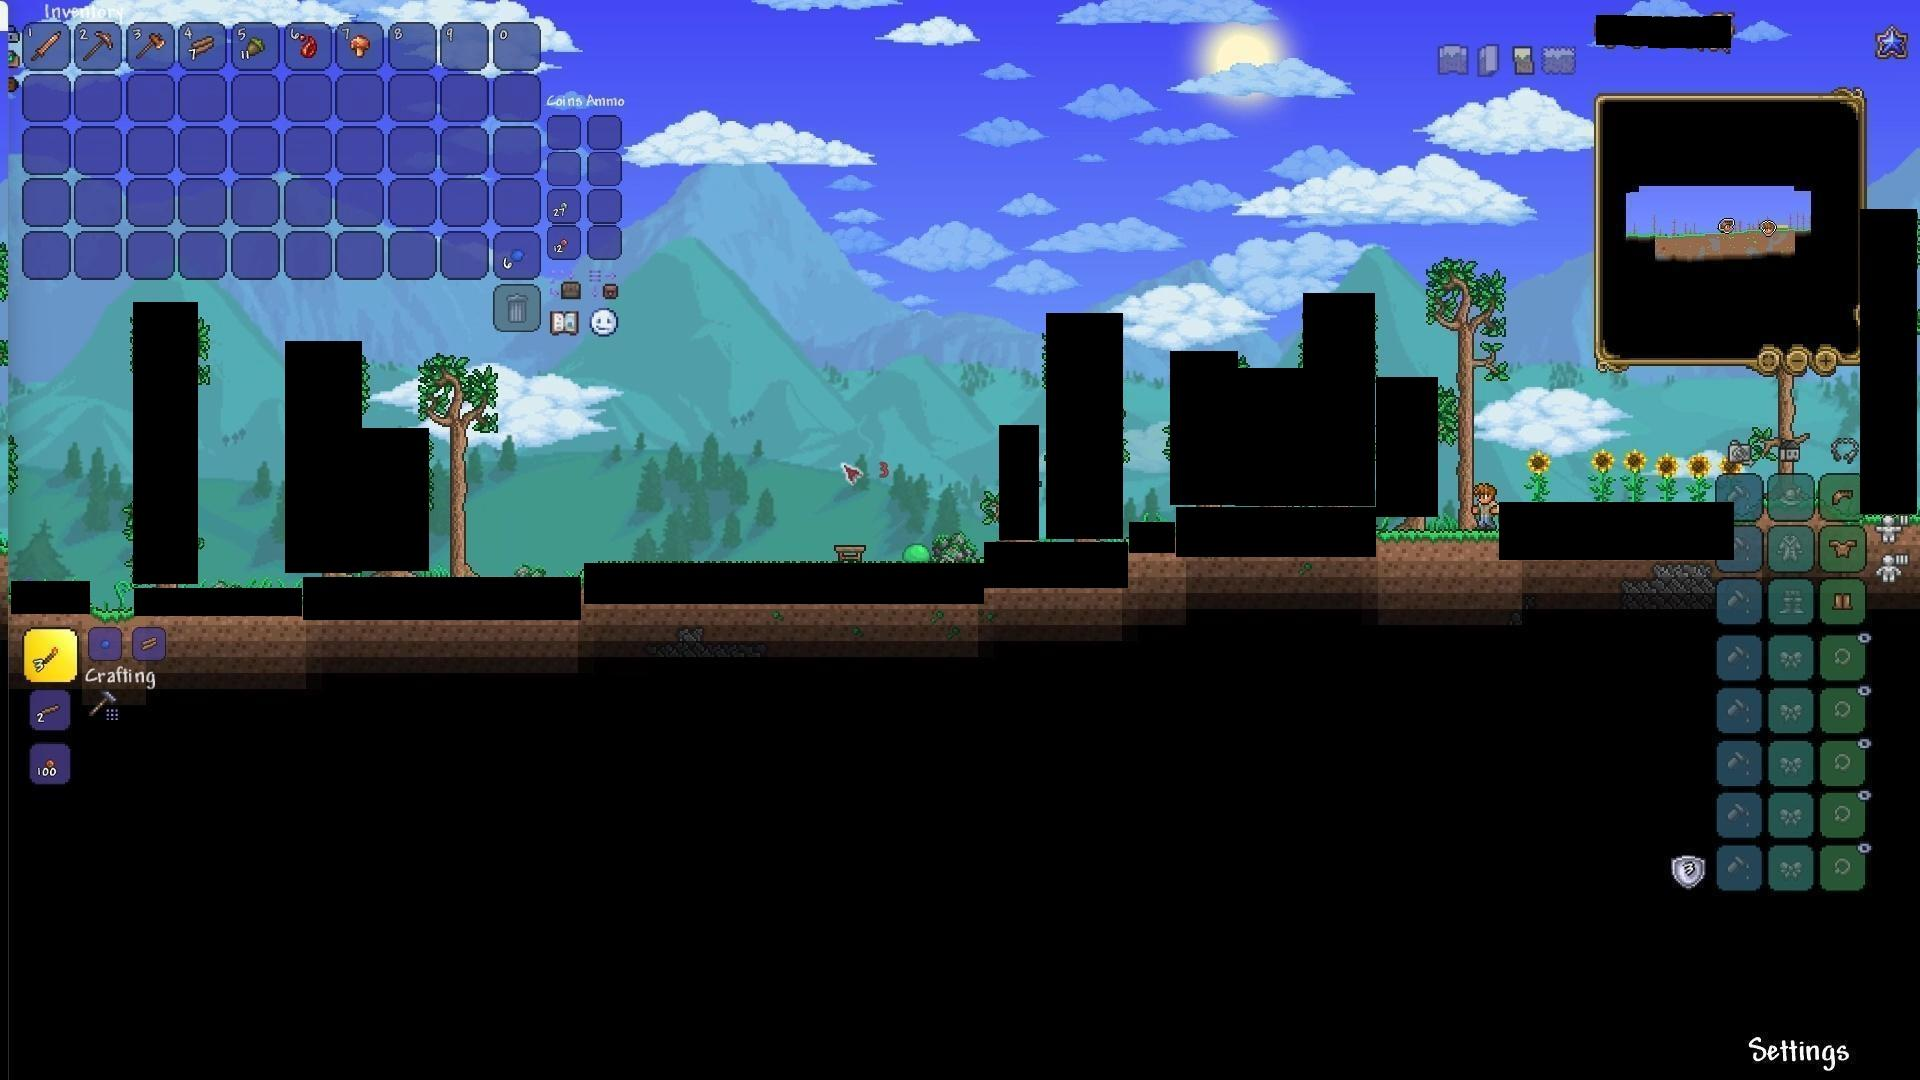breastplate: (1830, 537, 1859, 559)
dirt: (1379, 521, 1499, 566), (88, 597, 135, 624)
helmet: (1832, 484, 1858, 508)
legs: (1830, 588, 1855, 616)
slime: (901, 545, 936, 570)
tree: (1440, 252, 1495, 517), (429, 344, 483, 568)
wood: (189, 33, 218, 61), (137, 628, 166, 655)
workbench: (831, 538, 868, 563)
